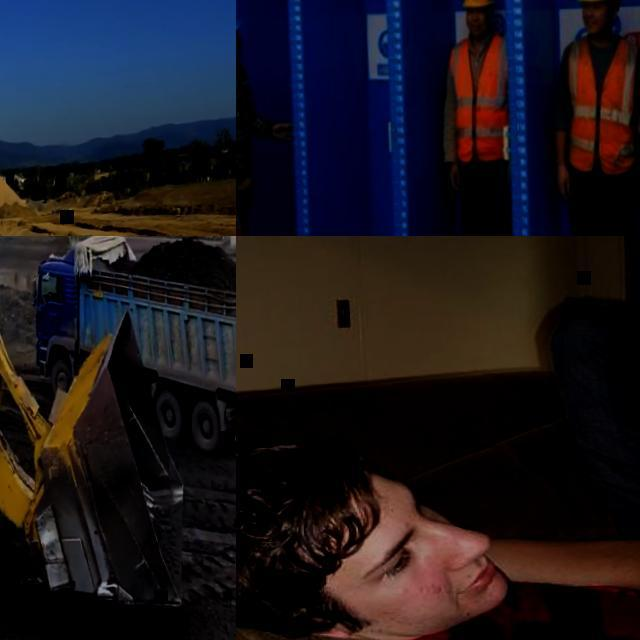helmet: (463, 0, 498, 8)
vest: (565, 32, 640, 177), (448, 34, 516, 163)
